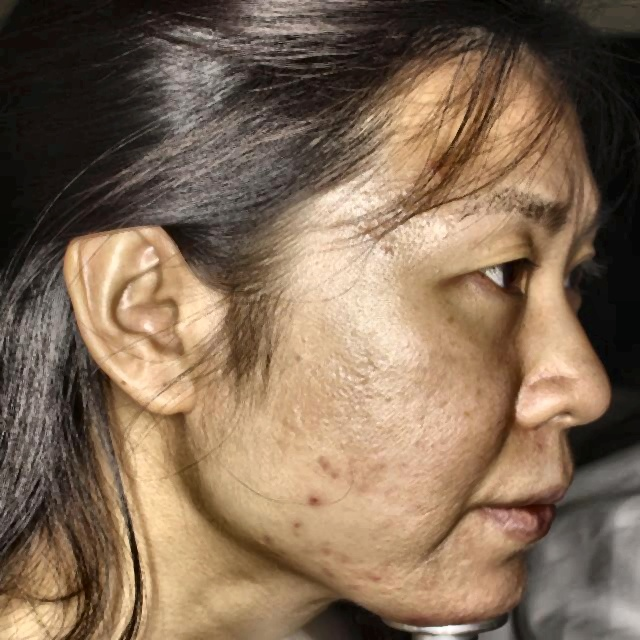pustule: (314, 556, 342, 586), (368, 557, 390, 593), (421, 153, 448, 180), (302, 490, 324, 520), (259, 530, 279, 556), (316, 447, 336, 472), (314, 539, 341, 557)
